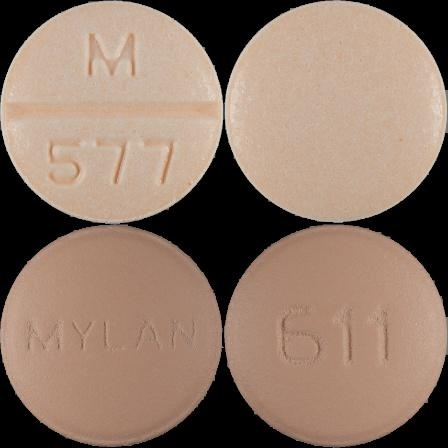0378-0577: (0, 0, 224, 224)
